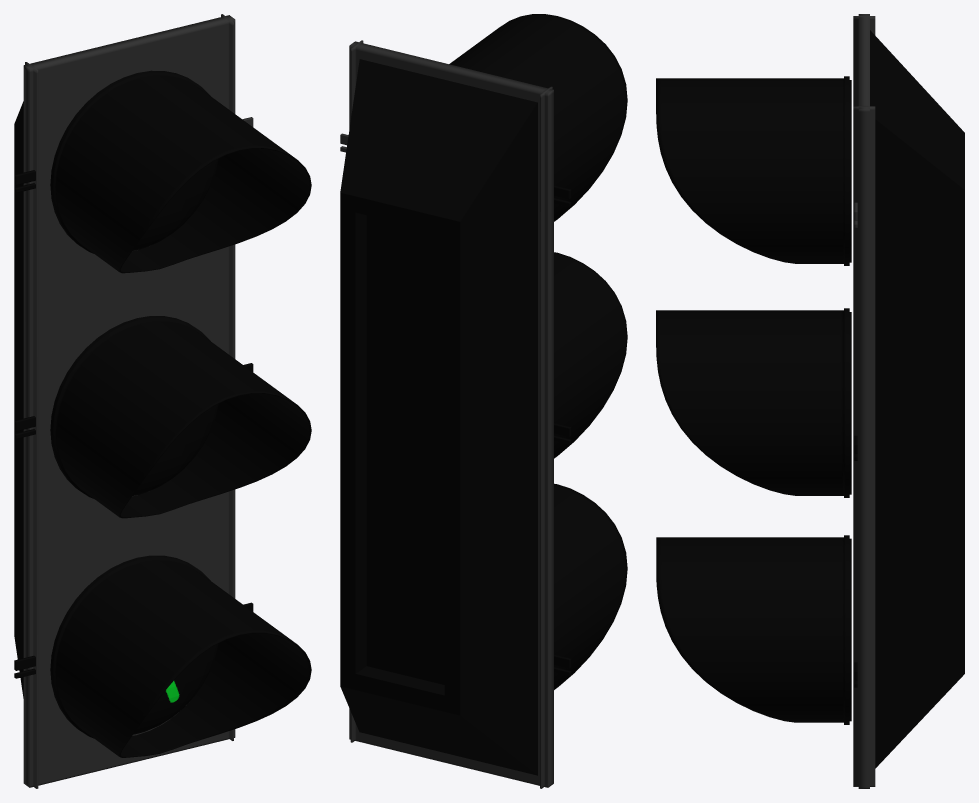
File: TrafficlightPed.fbx
3 renders of one model, left to right at view 1: azimuth 30°, elevation 25°; view 2: azimuth 150°, elevation 25°; view 3: azimuth 270°, elevation 25°, orthographic. The views are drawn at different scales.
Parts seen in each view (by area): view 1: Base_LOD0, Lights; view 2: Base_LOD0; view 3: Base_LOD0.
Part boxes in pixels (x1,y1,x2,y2): Base_LOD0: [14, 14, 311, 788]; Lights: [132, 159, 218, 734]; Base_LOD0: [340, 14, 627, 788]; Base_LOD0: [656, 14, 964, 788].
Size of what is drawn, in the model's own units: 67.31 by 195 by 80.11.
